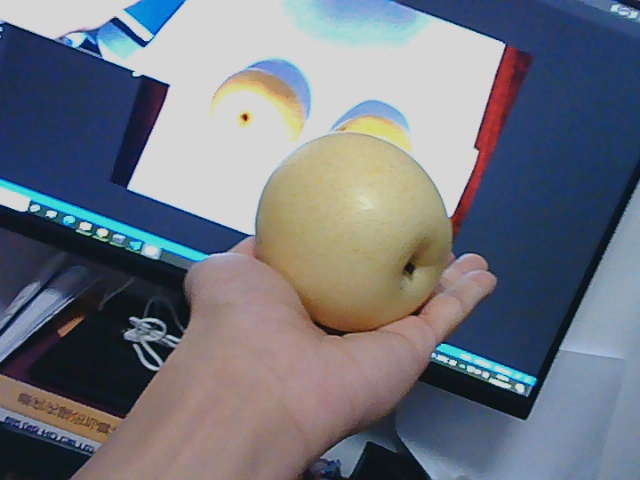pear: (259, 127, 453, 327)
